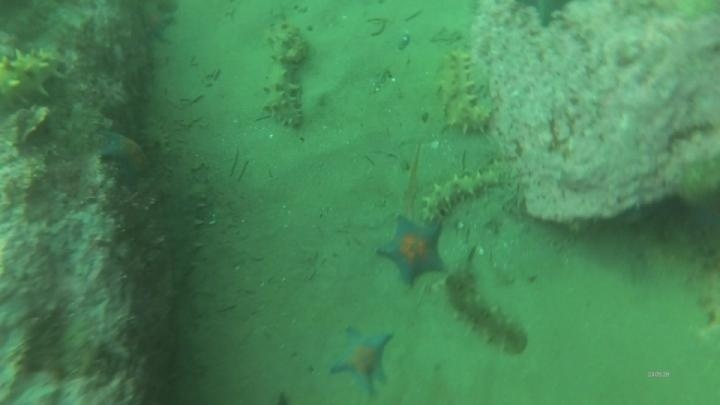holothurian: (444, 266, 532, 357), (156, 154, 211, 286), (259, 16, 309, 131), (418, 163, 508, 222), (437, 46, 493, 137), (0, 42, 69, 115)
starfish: (376, 215, 449, 289), (327, 325, 397, 398), (97, 128, 154, 188), (134, 2, 181, 44)
